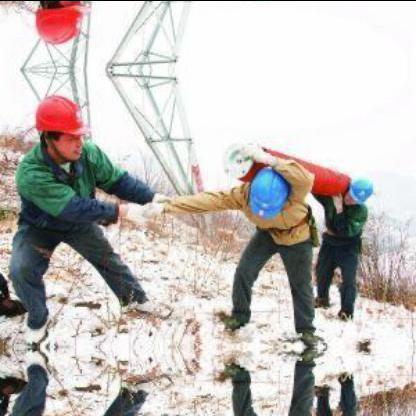Helmet: (29, 86, 90, 162), (29, 0, 92, 51), (252, 164, 292, 214), (346, 172, 375, 204)
